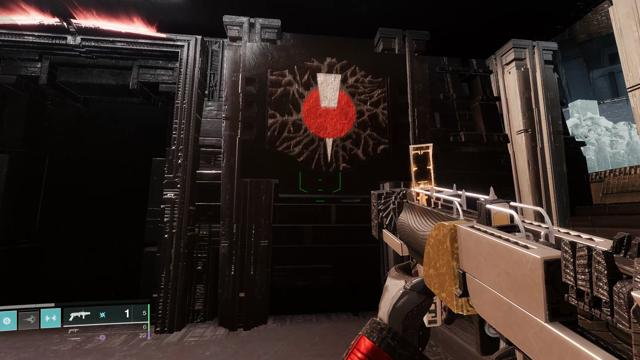kill: (266, 56, 390, 172)
